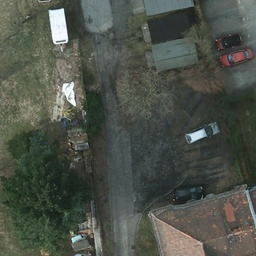car: (185, 120, 219, 146), (219, 47, 253, 68), (172, 185, 202, 204), (216, 32, 244, 50)
